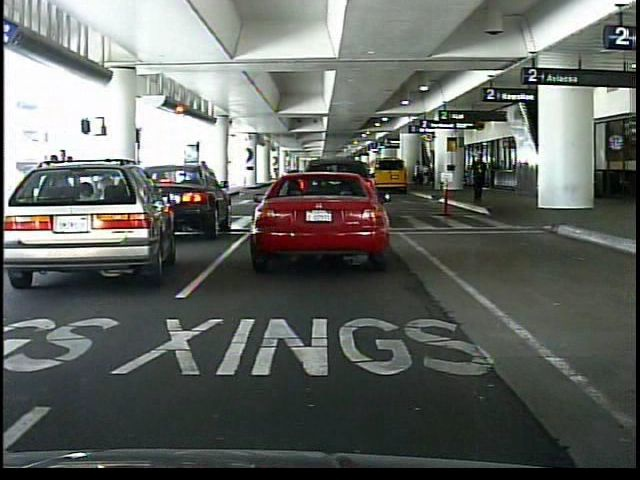person: (59, 148, 78, 228), (199, 157, 220, 214), (301, 155, 320, 211), (471, 153, 490, 203), (412, 156, 425, 192)
